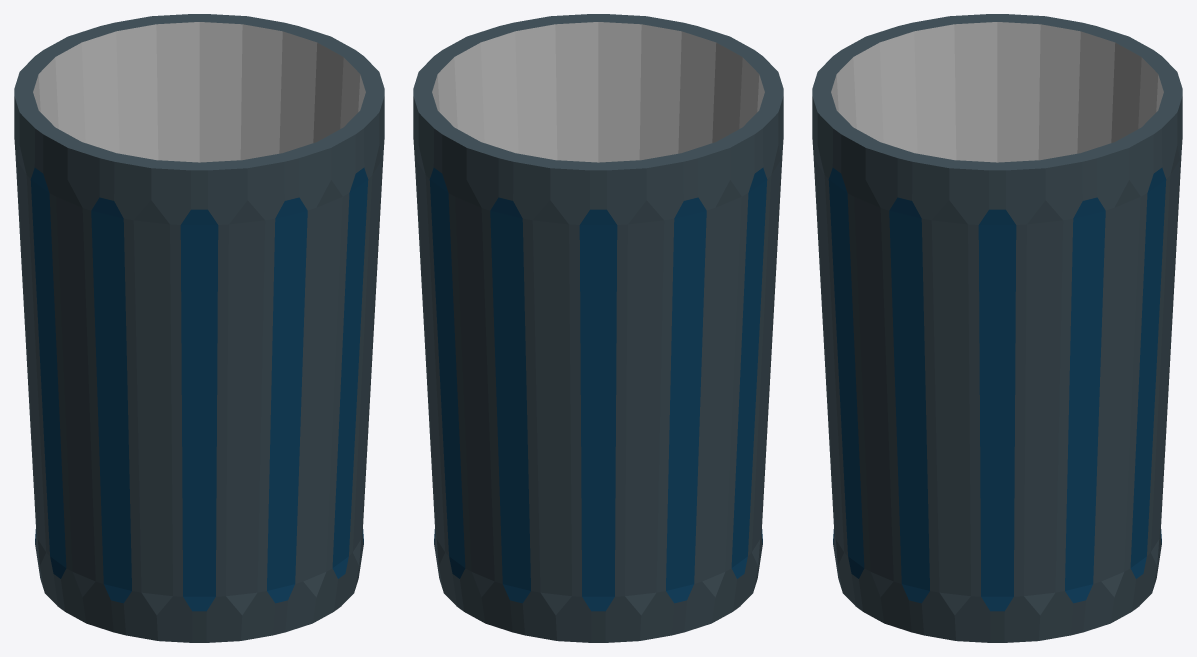
Rendered from TrashCan.fbx.
3 views of the same model, side by side, from view 1: azimuth 30°, elevation 25°; view 2: azimuth 150°, elevation 25°; view 3: azimuth 270°, elevation 25° (orthographic).
Parts seen in each view (by area): view 1: TrashCan; view 2: TrashCan; view 3: TrashCan.
Part boxes in pixels (<box>): TrashCan: <box>14,14,384,642</box>; TrashCan: <box>413,14,783,642</box>; TrashCan: <box>812,14,1182,642</box>.
Size of the model in its own units: 195 by 195 by 281.
